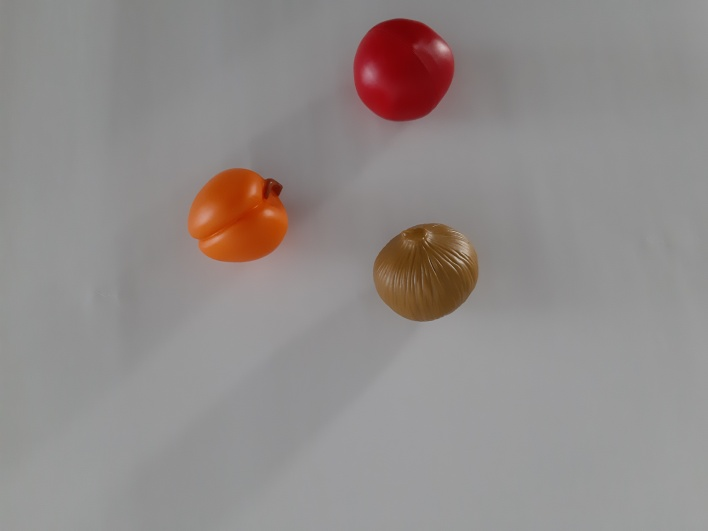apricot: (169, 153, 315, 285)
onion: (359, 204, 496, 342)
tomato: (340, 8, 468, 133)
